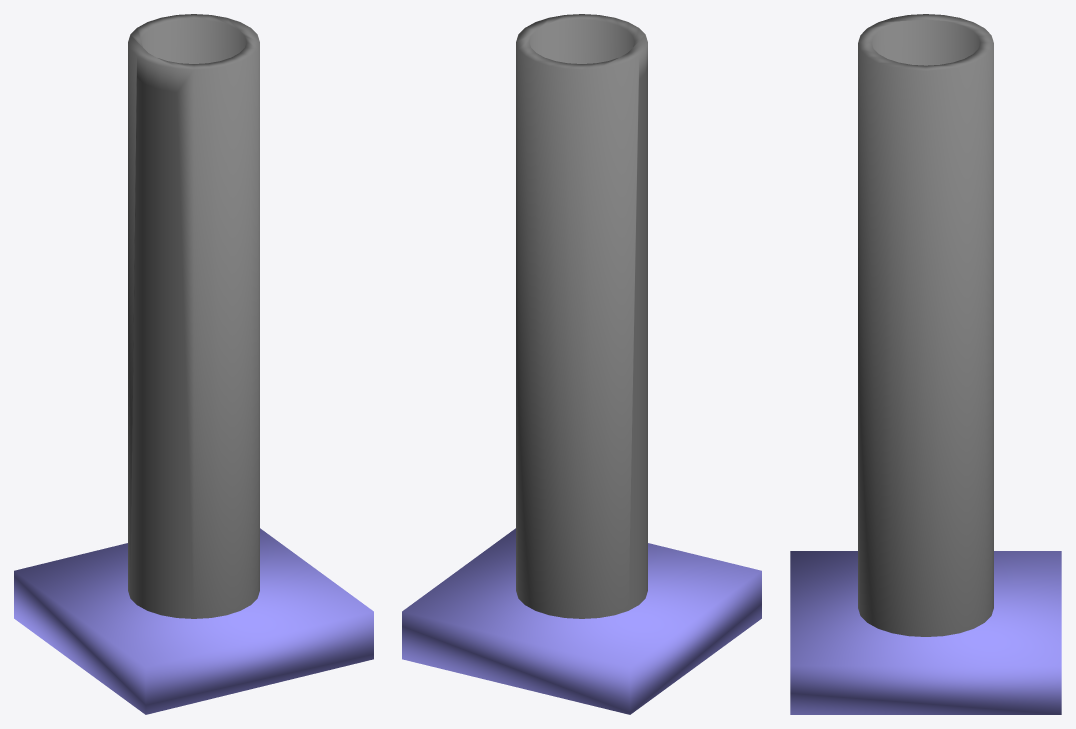
3 views of the same model, side by side, from view 1: azimuth 30°, elevation 25°; view 2: azimuth 150°, elevation 25°; view 3: azimuth 270°, elevation 25° (orthographic). The views are drawn at different scales.
Parts seen in each view (by area): view 1: root; view 2: root; view 3: root.
Part boxes in pixels (left/top/right/bottom): root: left=14, top=14, right=373, bottom=714; root: left=402, top=14, right=761, bottom=714; root: left=790, top=14, right=1061, bottom=714.
Size of the model in its own units: 1.27 by 3.17 by 1.27.
